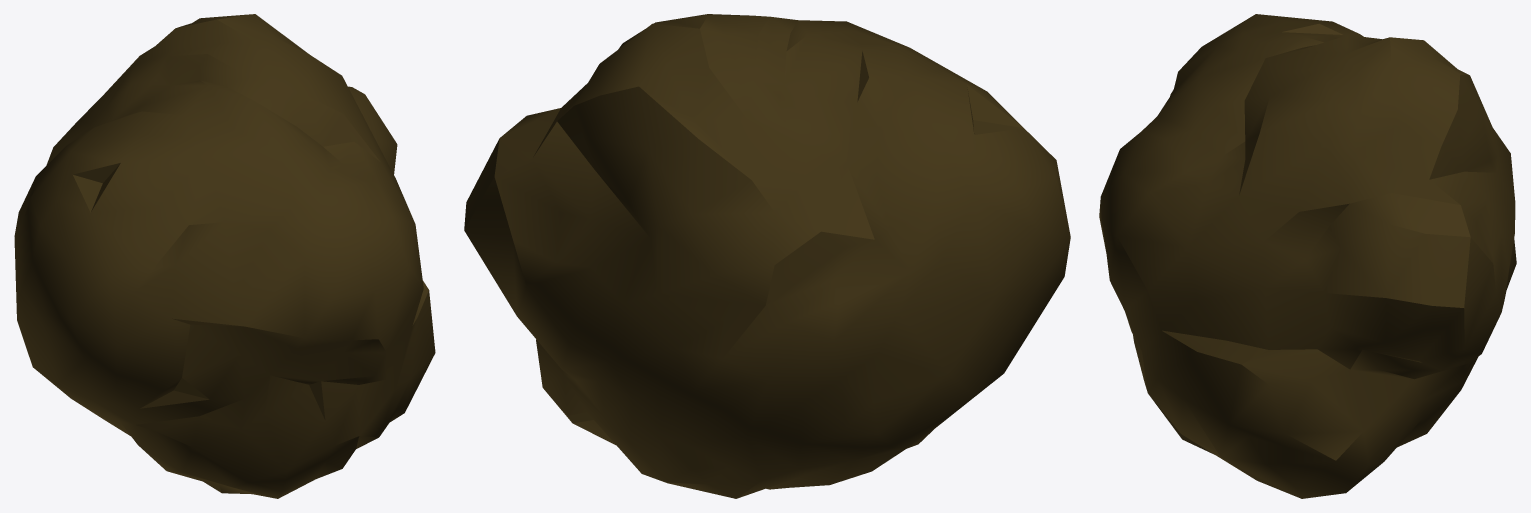
File: Meteor.fbx
3 renders of one model, left to right at view 1: azimuth 30°, elevation 25°; view 2: azimuth 150°, elevation 25°; view 3: azimuth 270°, elevation 25°, orthographic. The views are drawn at different scales.
Visible parts, largest first — view 1: Meteor; view 2: Meteor; view 3: Meteor.
Boxes of the visible parts, x1,y1,x2,y2 form: Meteor: (14, 14, 435, 498); Meteor: (464, 14, 1070, 498); Meteor: (1099, 14, 1516, 498).
Size of the model in its own units: 268 by 255 by 228.
